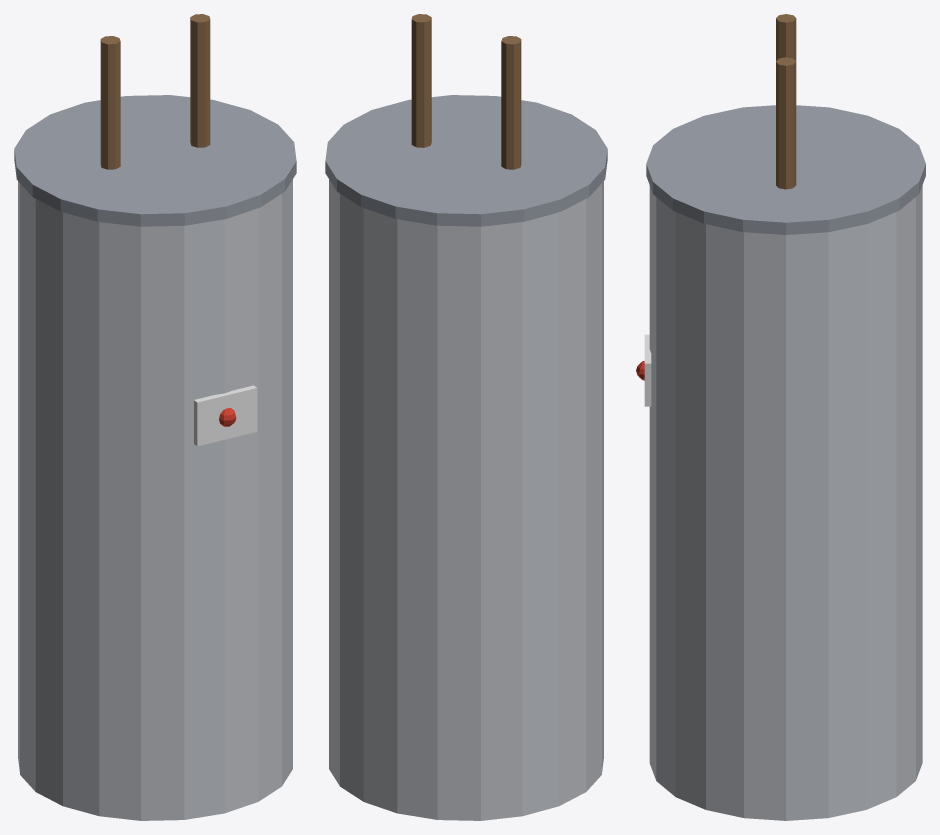
Rendered from boiler.fbx.
3 views of the same model, side by side, from view 1: azimuth 30°, elevation 25°; view 2: azimuth 150°, elevation 25°; view 3: azimuth 270°, elevation 25° (orthographic).
Parts seen in each view (by area): view 1: boiler; view 2: boiler; view 3: boiler.
Part boxes in pixels (x1,y1,x2,y2): boiler: [14, 14, 296, 820]; boiler: [325, 14, 607, 820]; boiler: [636, 14, 925, 820].
Bounding box in the file's own units: 0.82 × 2.34 × 0.85.
